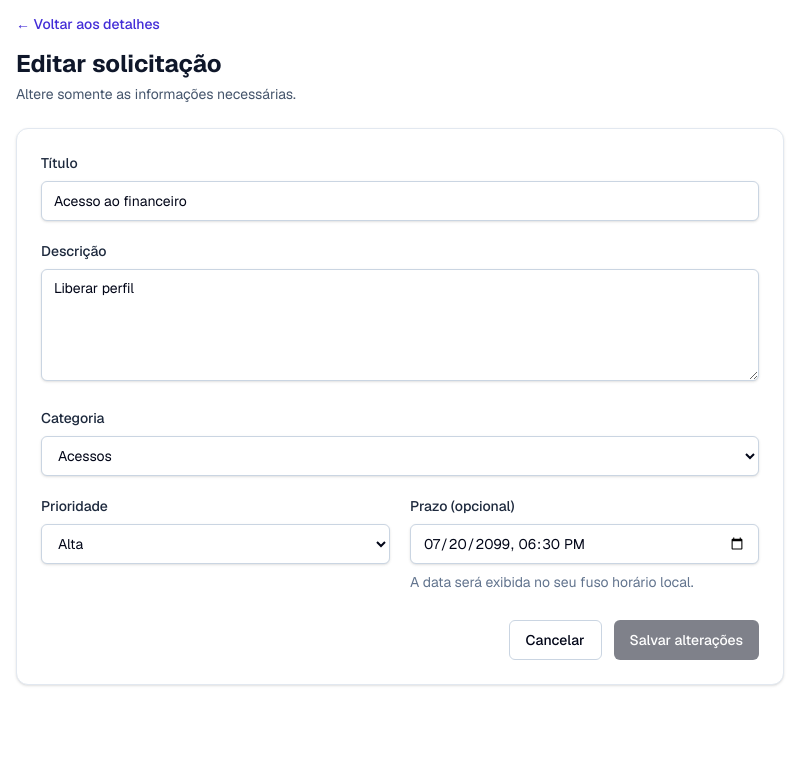
Test: edição de solicitação › mapeia categoria inativa para o campo
Select "Infraestrutura" in the dropdown labelled "Categoria" at (400, 456), box [41, 436, 759, 476]
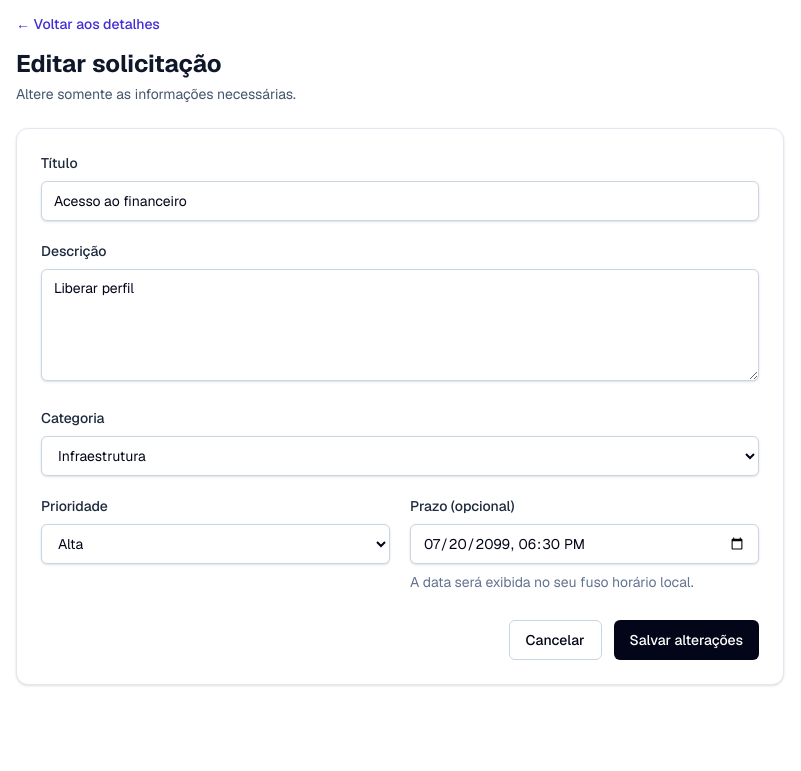
Click the button "Salvar alterações" at (686, 640), box [614, 620, 759, 660]
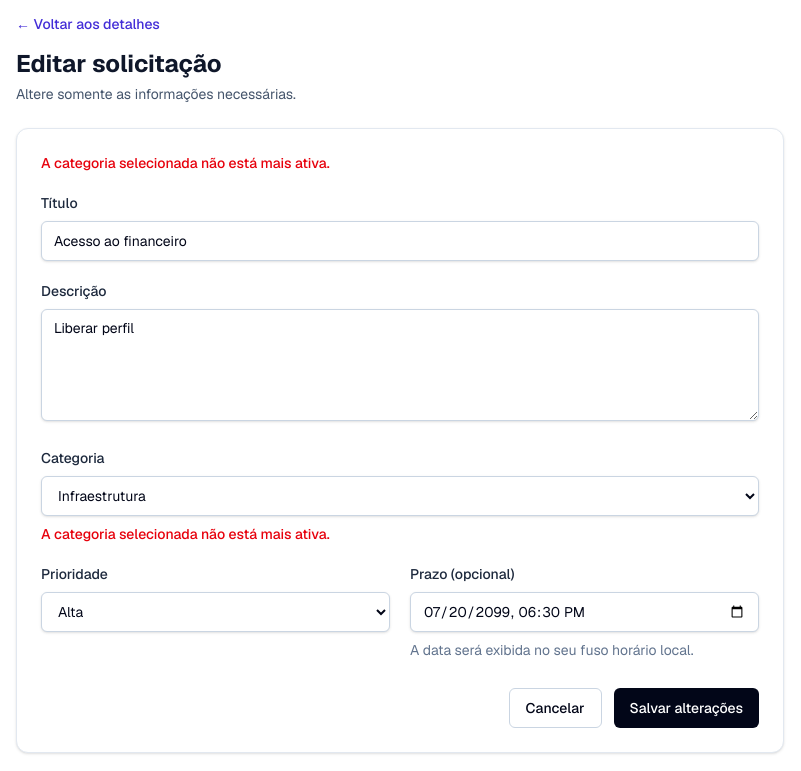
Expected: the 1st text "A categoria selecionada não está mais ativa." is shown, [41, 154, 330, 172]
